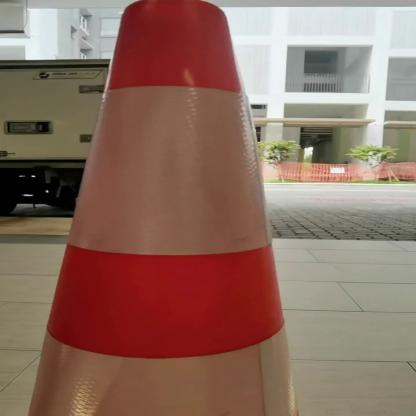cone: (21, 1, 307, 416)
